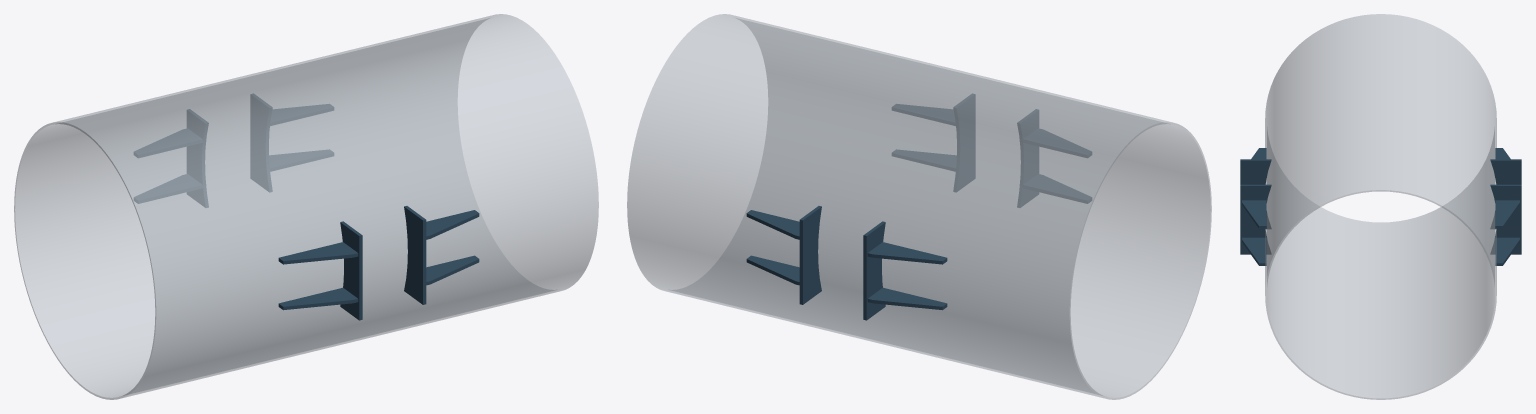
The model's file is TS-660.00.00-20-opora-dn1220.glb.
The picture shows the model from 3 angles, left to right: view 1: azimuth 30°, elevation 25°; view 2: azimuth 150°, elevation 25°; view 3: azimuth 270°, elevation 25°; orthographic projection. The views are drawn at different scales.
Visible parts, largest first — view 1: truba, upor_1, upor_7, upor_4, upor_10, upor_5, upor_6, upor_11, upor_12, upor_8, upor_3, upor_2 (+1 smaller); view 2: truba, upor_7, upor_1, upor_10, upor_4, upor_11, upor_12, upor_5, upor_6, upor_3, upor_8, upor_9 (+1 smaller); view 3: truba, upor_1, upor_7, upor_4, upor_10, upor_3, upor_8, upor_2, upor_9.
Part boxes in pixels (<box>): truba: <box>14,14,598,399</box>; upor_1: <box>404,206,426,304</box>; upor_7: <box>250,94,272,191</box>; upor_4: <box>340,221,362,320</box>; upor_10: <box>187,109,208,207</box>; upor_5: <box>278,242,358,264</box>; upor_6: <box>278,287,358,310</box>; upor_11: <box>134,174,202,203</box>; upor_12: <box>134,128,202,157</box>; upor_8: <box>269,149,333,171</box>; upor_3: <box>426,255,479,285</box>; upor_2: <box>426,210,479,239</box>; truba: <box>627,14,1211,399</box>; upor_7: <box>799,206,821,304</box>; upor_1: <box>953,94,975,191</box>; upor_10: <box>863,221,885,320</box>; upor_4: <box>1017,109,1038,207</box>; upor_11: <box>867,287,947,310</box>; upor_12: <box>867,242,947,264</box>; upor_5: <box>1023,128,1091,157</box>; upor_6: <box>1023,174,1091,203</box>; upor_3: <box>892,149,956,171</box>; upor_8: <box>746,255,799,285</box>; upor_9: <box>746,210,799,239</box>; truba: <box>1265,14,1496,399</box>; upor_1: <box>1240,184,1271,254</box>; upor_7: <box>1490,184,1521,254</box>; upor_4: <box>1240,159,1271,229</box>; upor_10: <box>1490,159,1521,229</box>; upor_3: <box>1242,237,1266,265</box>; upor_8: <box>1495,237,1519,265</box>; upor_2: <box>1242,200,1266,228</box>; upor_9: <box>1495,200,1519,228</box>.
Size of the model in its own units: 2192 by 1220 by 1481.
